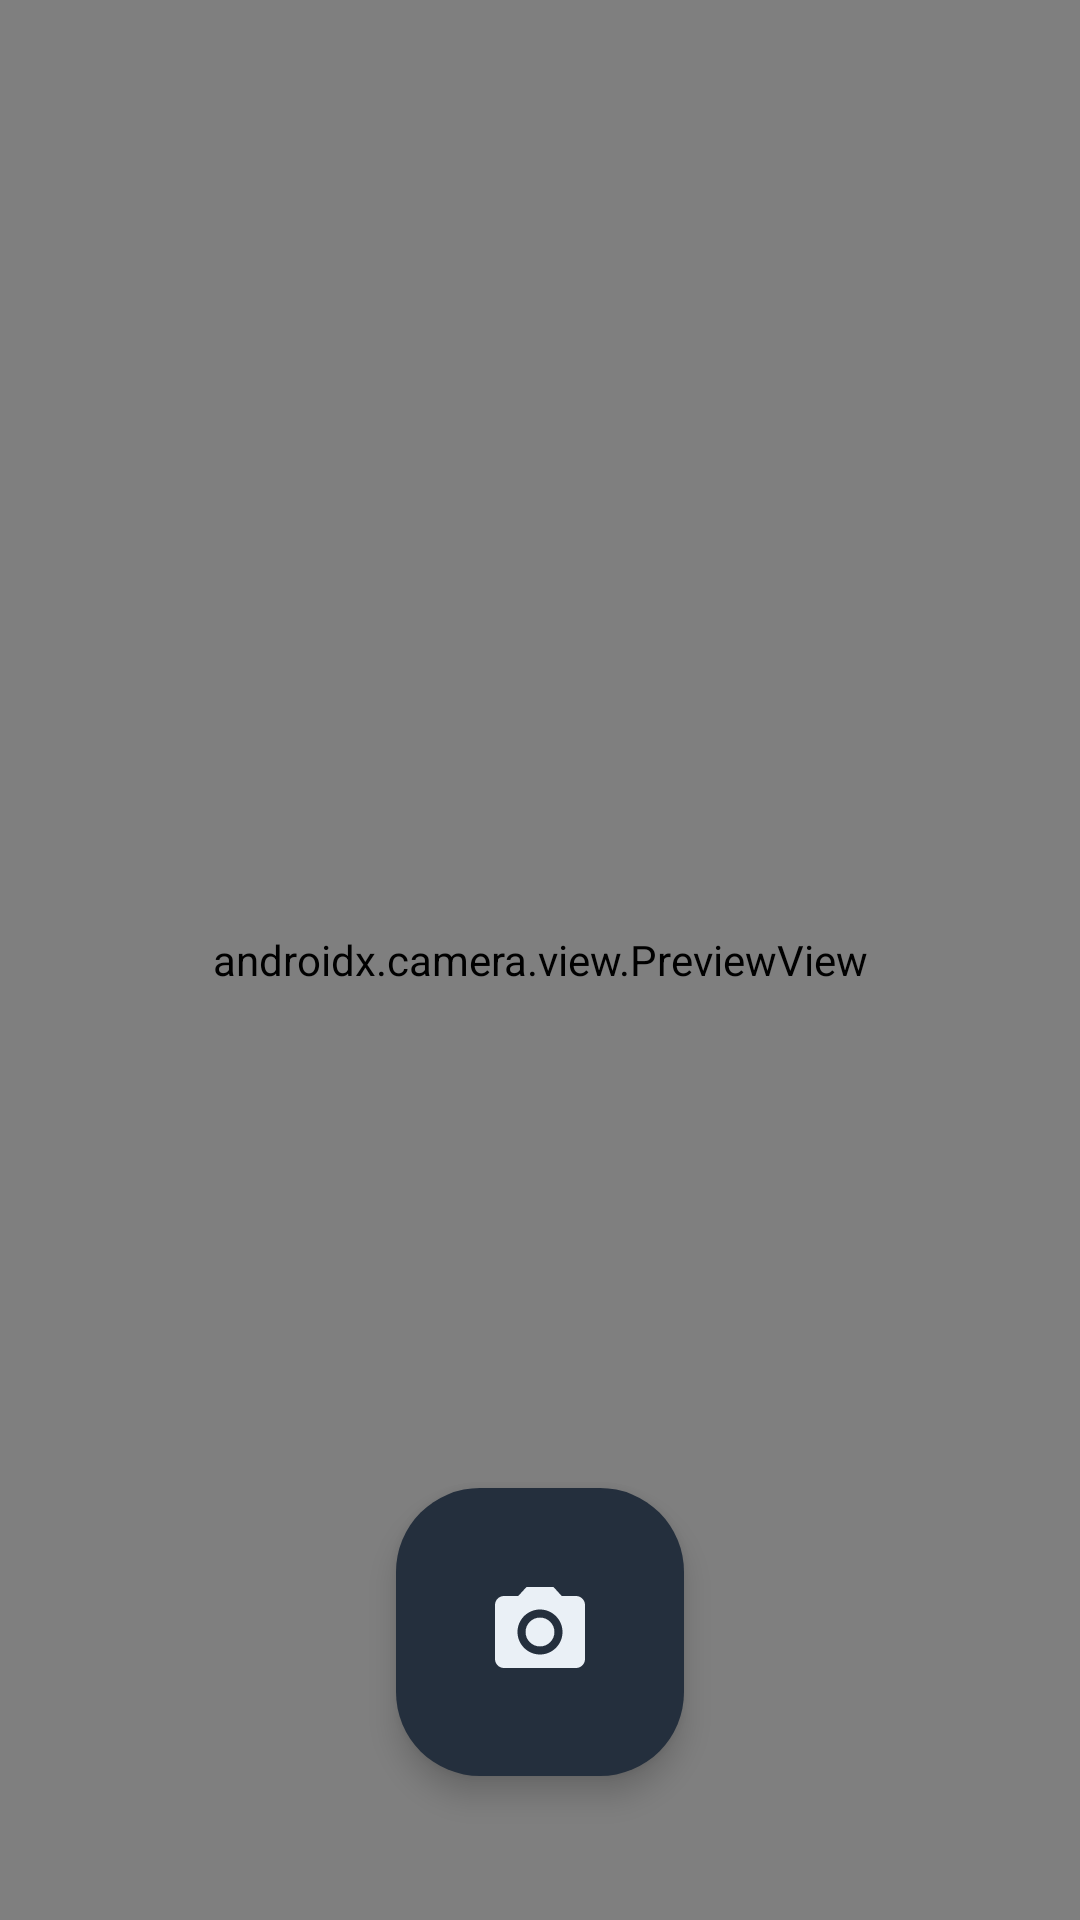

Named icons in this screenshot (1080*1920) and their centers, (x,y):
Take photo: (540,1632)
